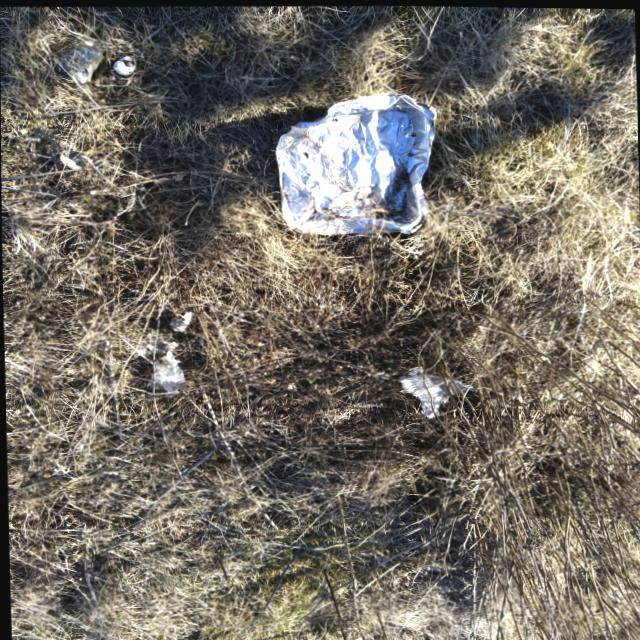Can-Metal: (268, 84, 442, 237)
Plastic: (390, 360, 485, 421), (133, 333, 188, 395)
